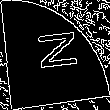N_W: (30, 32, 80, 78)
